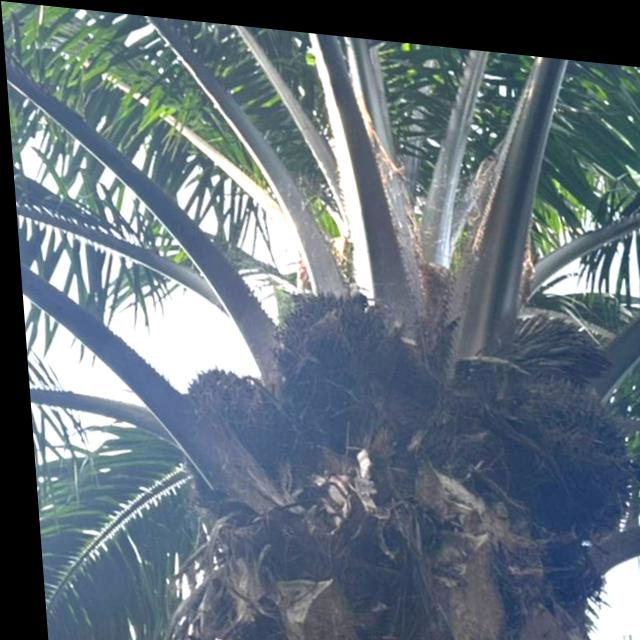unripe: (243, 279, 421, 438), (473, 351, 625, 498), (174, 356, 271, 450)
